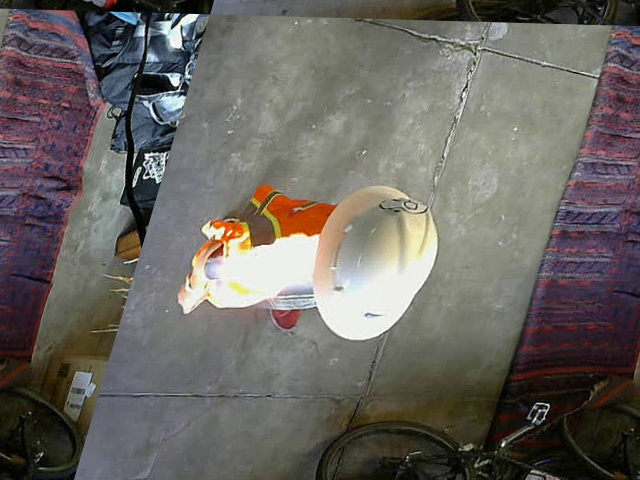eight: (375, 196, 432, 215)
